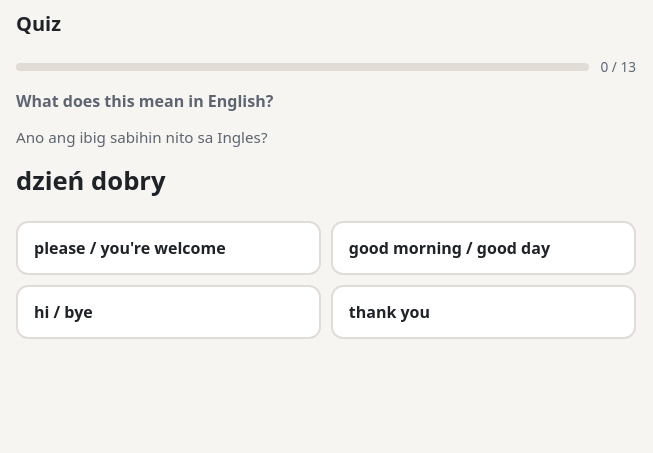
Test case: Quiz › shows the correct answer after a wrong choice
The width and height of the screenshot is (653, 453).
Click the button "please / you're welcome": (169, 248) [16,221,321,276]
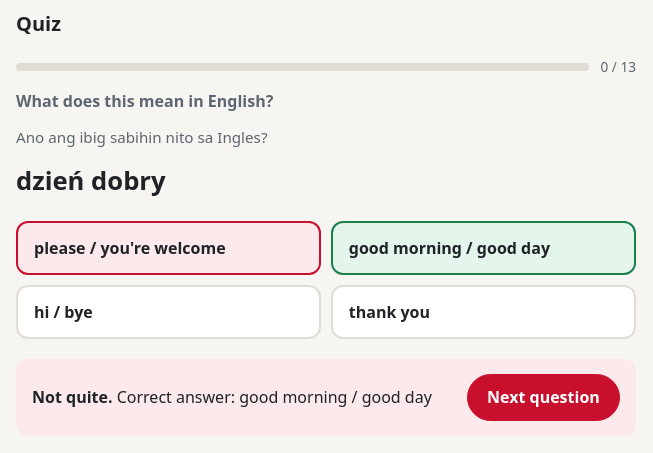
Expected: the text "Not quite." is shown, [32,386,112,408]
Expected: the text "Not quite. Correct answer: good morning / good day" is shown, [32,385,432,410]
